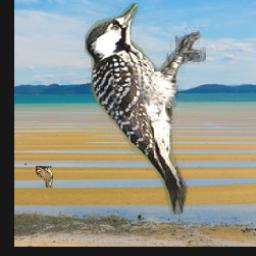Cuckoo: (37, 167, 54, 189)
Woodpecker: (86, 3, 207, 215)
